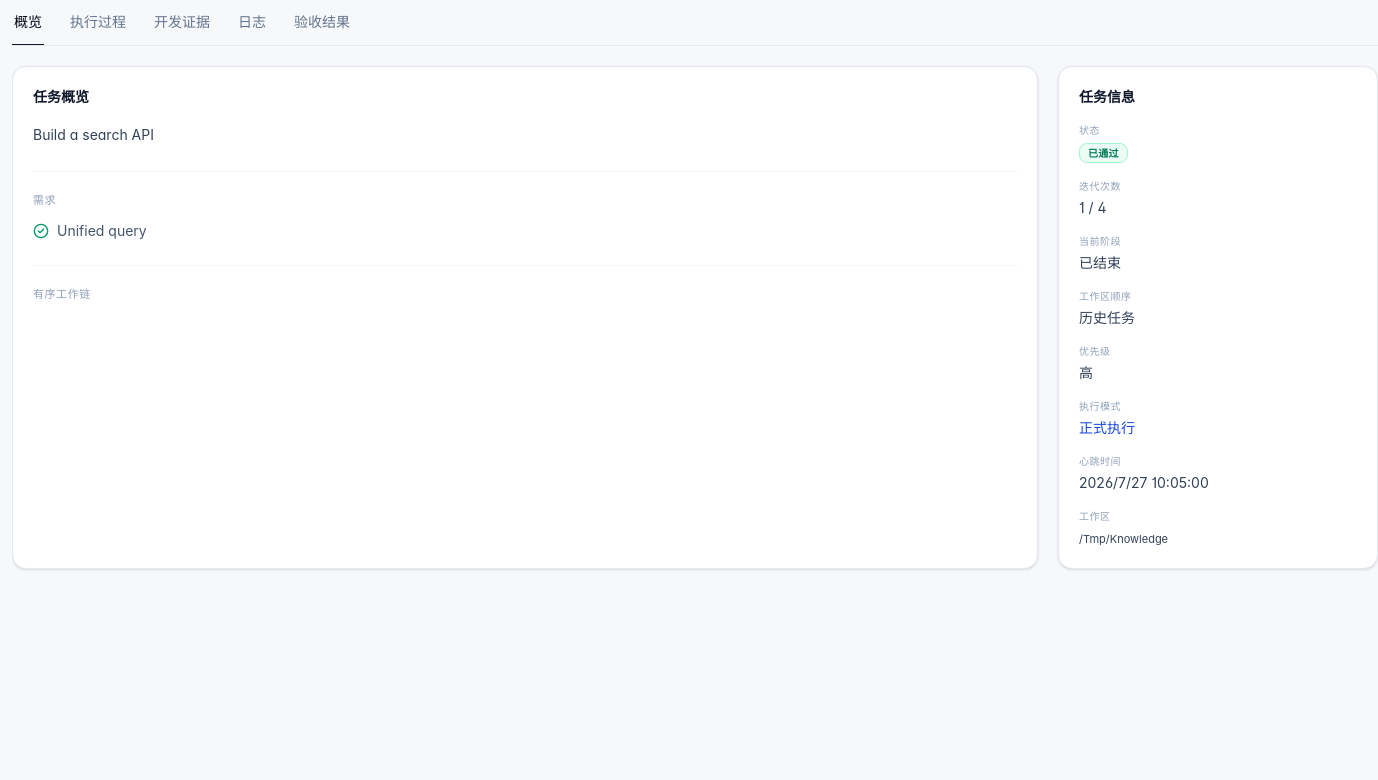
it: task detail tabs › shows evidence details from existing developer output
Click the tab "开发证据" at (182, 29), box [152,12,212,46]
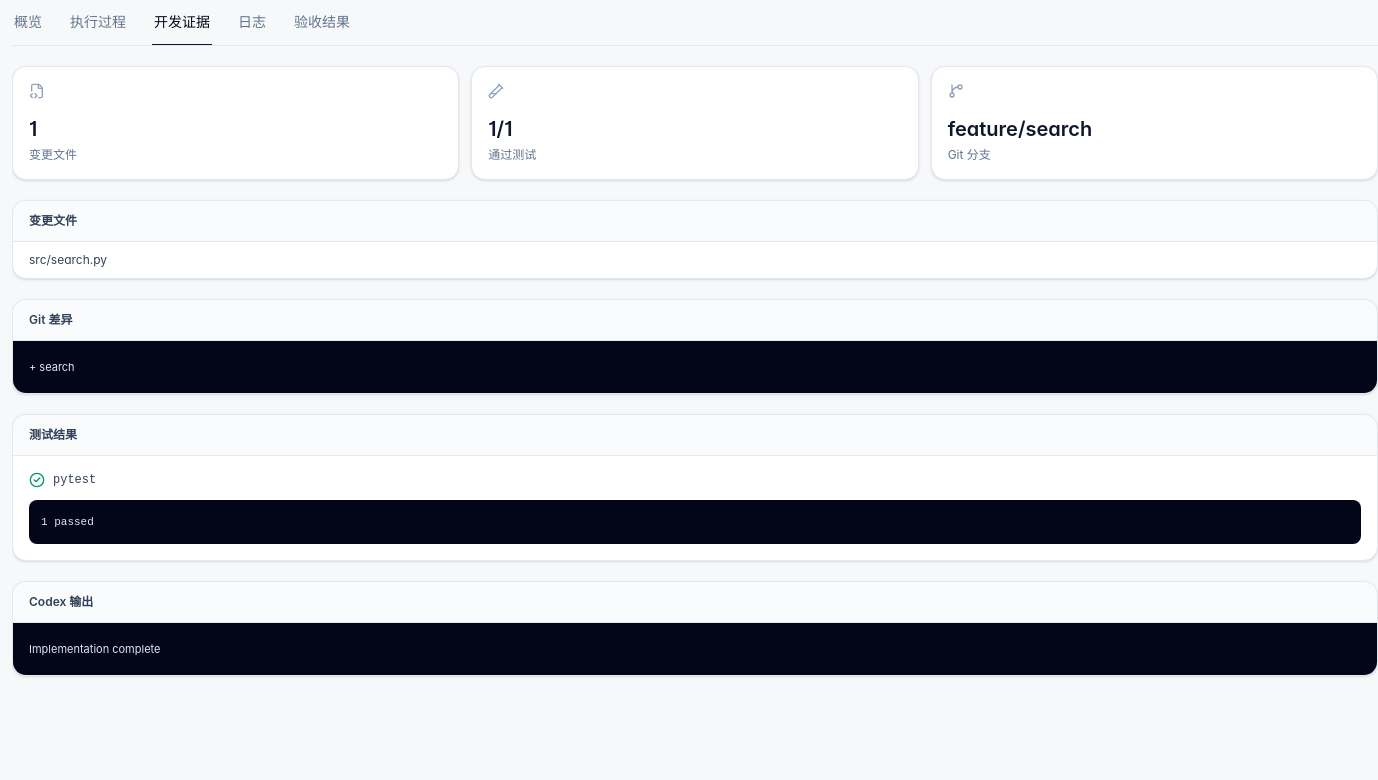
Result: the list item "src/search.py" is shown at [29,252,107,267]
Result: the text "feature/search" is shown at [948,117,1092,141]
Result: the text "Implementation complete" is shown at [13,623,1377,675]
